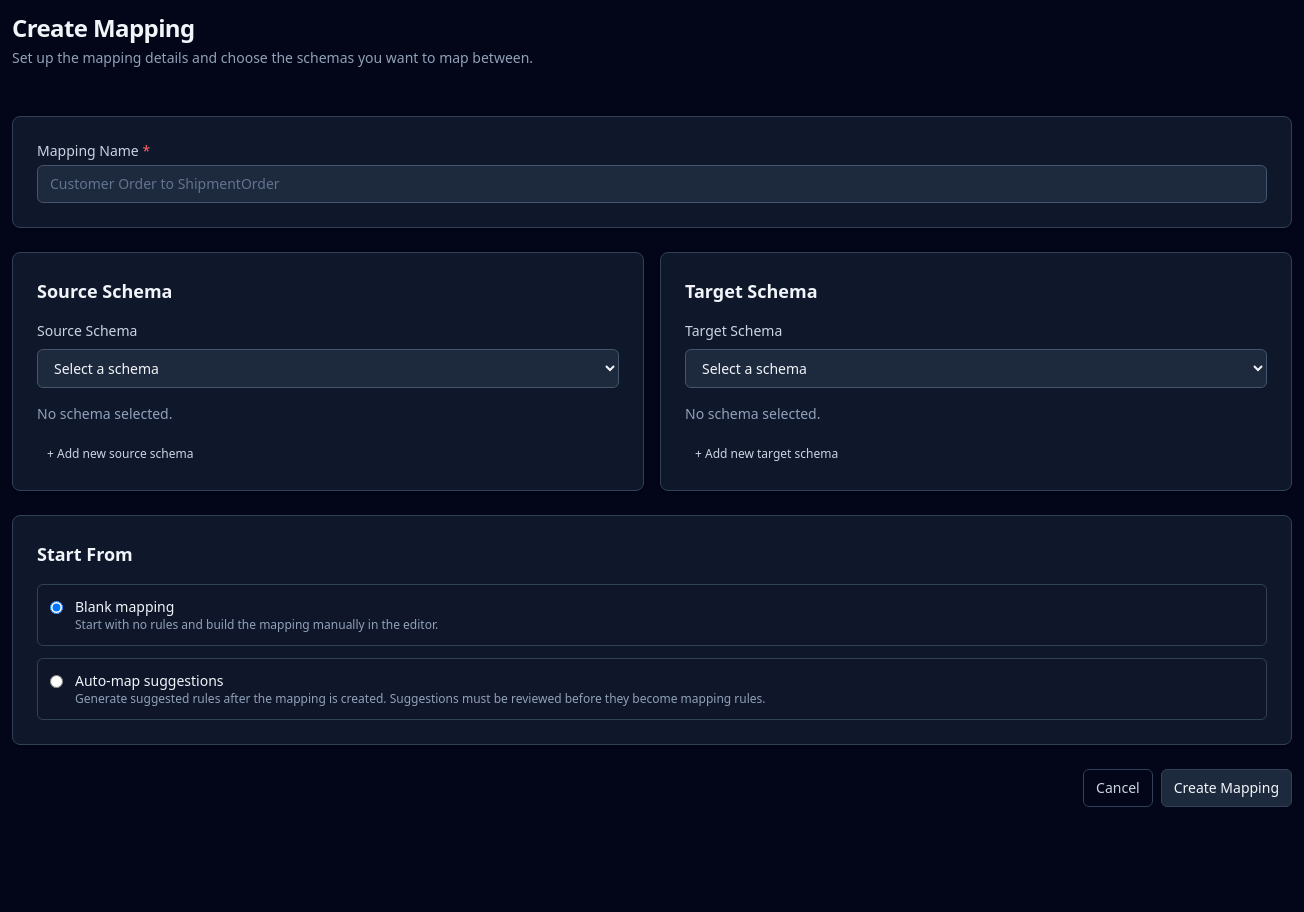
Scenario: CreateMappingPage (FS-088 T-08) › AE-11: shows inline validation error when mapping name is missing on submit
The width and height of the screenshot is (1304, 912).
Click the button with test id "create-button": coordinates (1226, 788) [1161,769,1292,807]
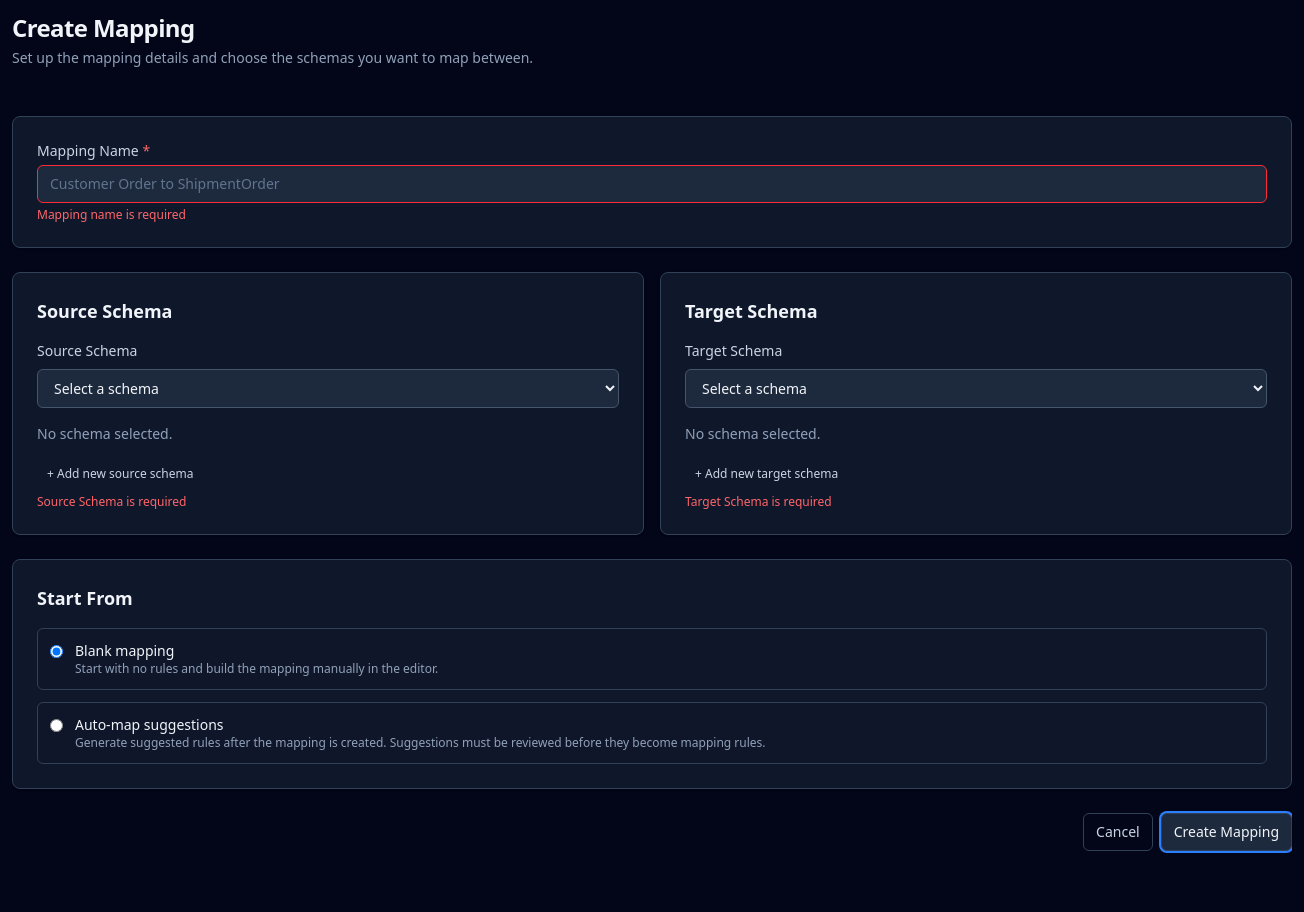
Check: the text "Mapping name is required" is shown, box [37,206,186,223]
